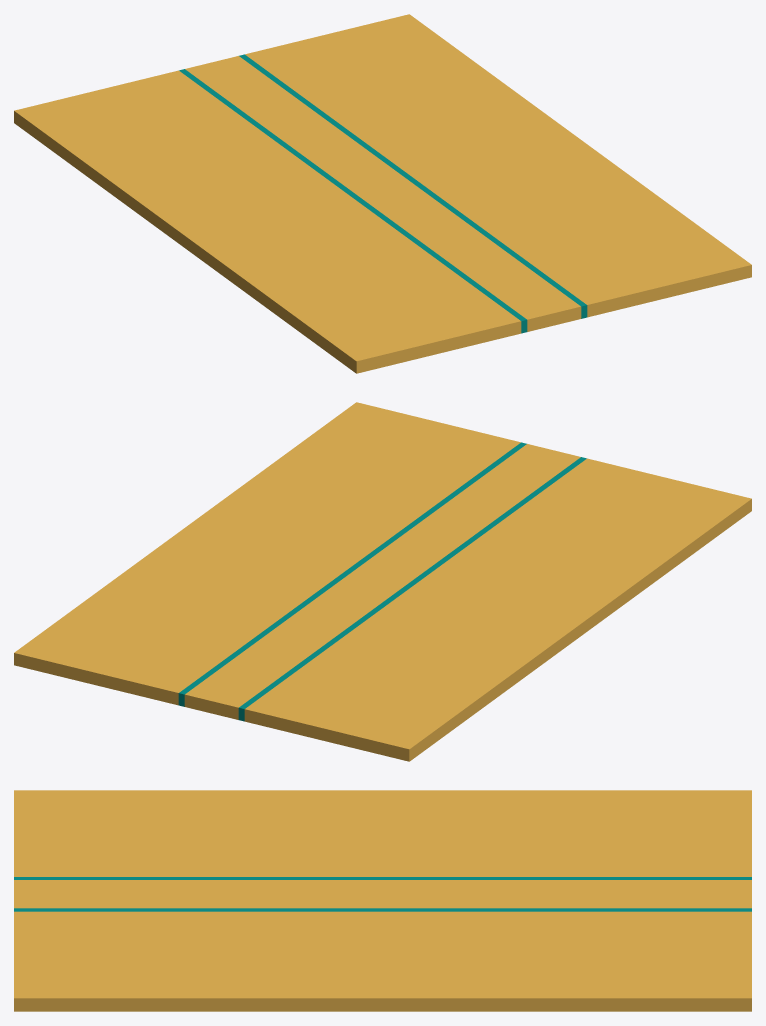
Rendered from road.dae.
3 views of the same model, one above another, from view 1: azimuth 30°, elevation 25°; view 2: azimuth 150°, elevation 25°; view 3: azimuth 270°, elevation 25° (orthographic). The views are drawn at different scales.
Visible parts, largest first — view 1: Plane; view 2: Plane; view 3: Plane.
Part boxes in pixels (bbox=[...]): Plane: bbox=[14, 14, 751, 373]; Plane: bbox=[14, 402, 751, 761]; Plane: bbox=[14, 790, 751, 1011].
Bounding box in the file's own units: 10 × 15 × 0.3.
